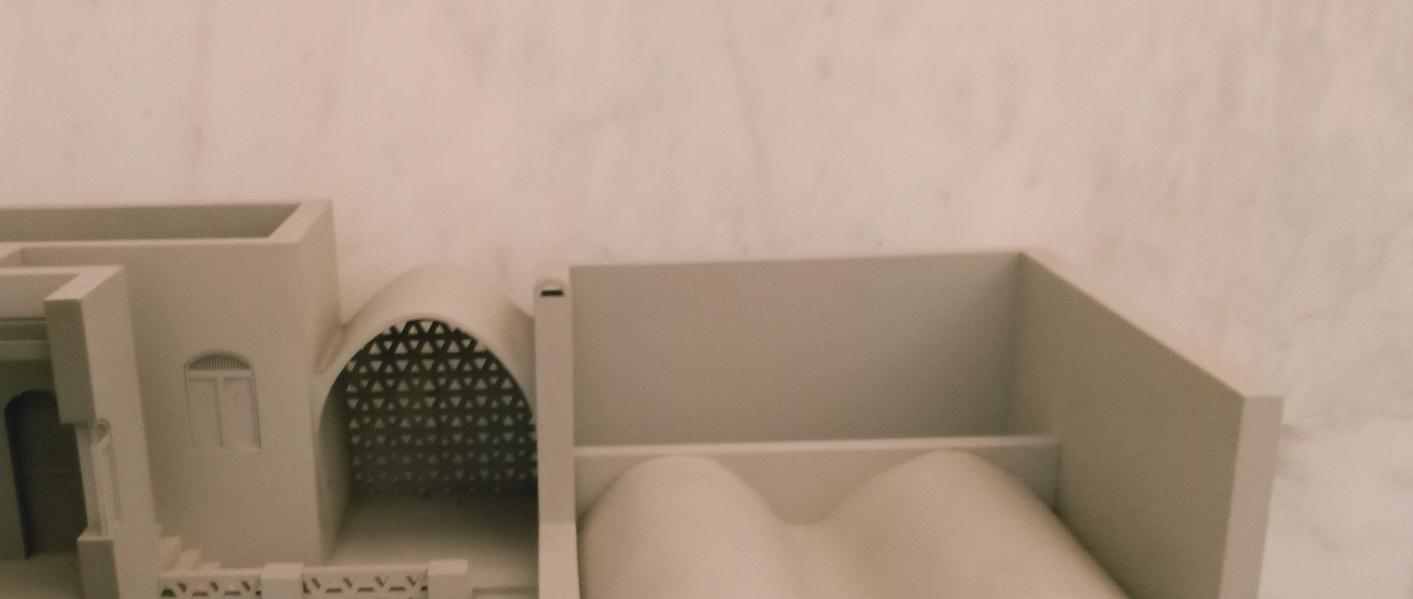HassanFathi: (0, 190, 1413, 599)
